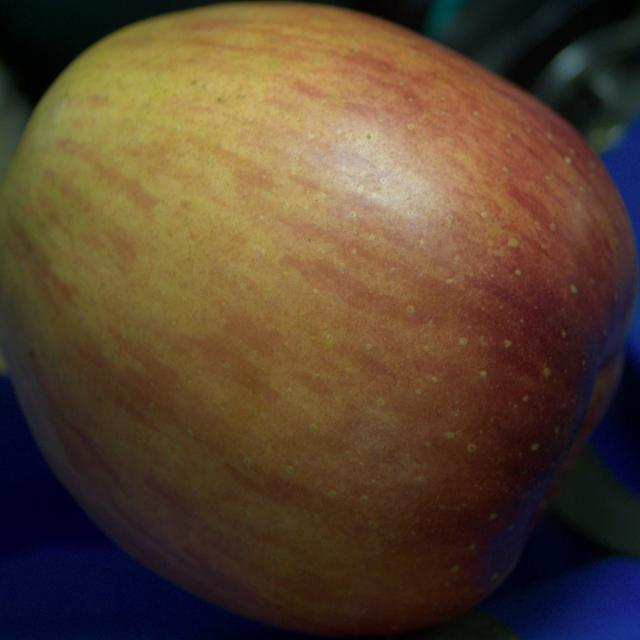apple: (0, 2, 638, 634)
